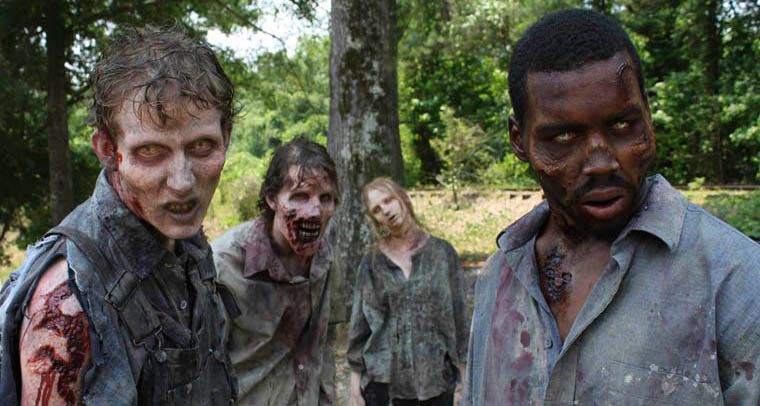-: (464, 8, 759, 401), (0, 31, 241, 402), (211, 137, 341, 404), (344, 177, 465, 404)
